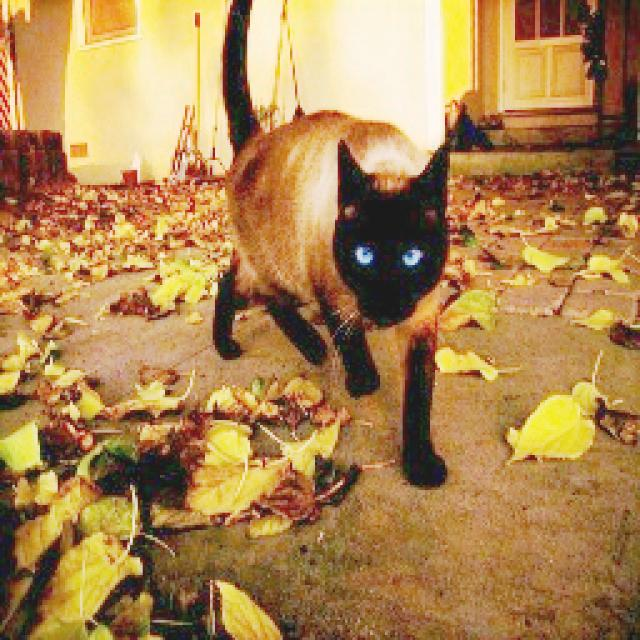cat: (179, 0, 480, 510)
